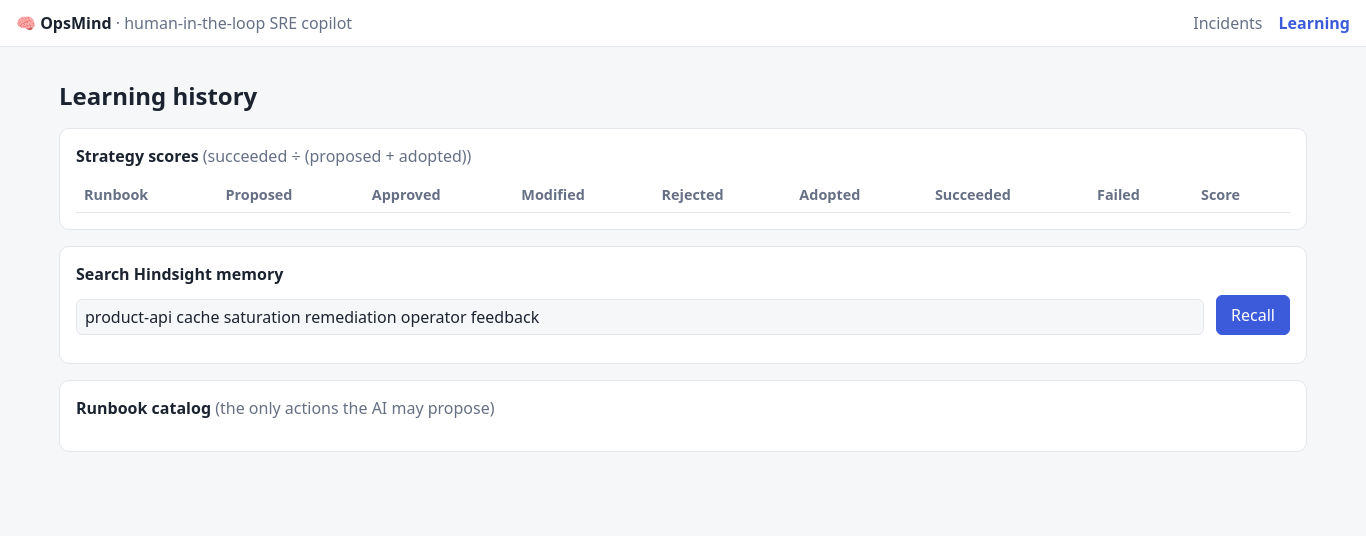
Test: learning page › searches Hindsight memory
The image size is (1366, 536).
Click the button "Recall" at (1253, 315), box x1=1216 y1=295 x2=1290 y2=335
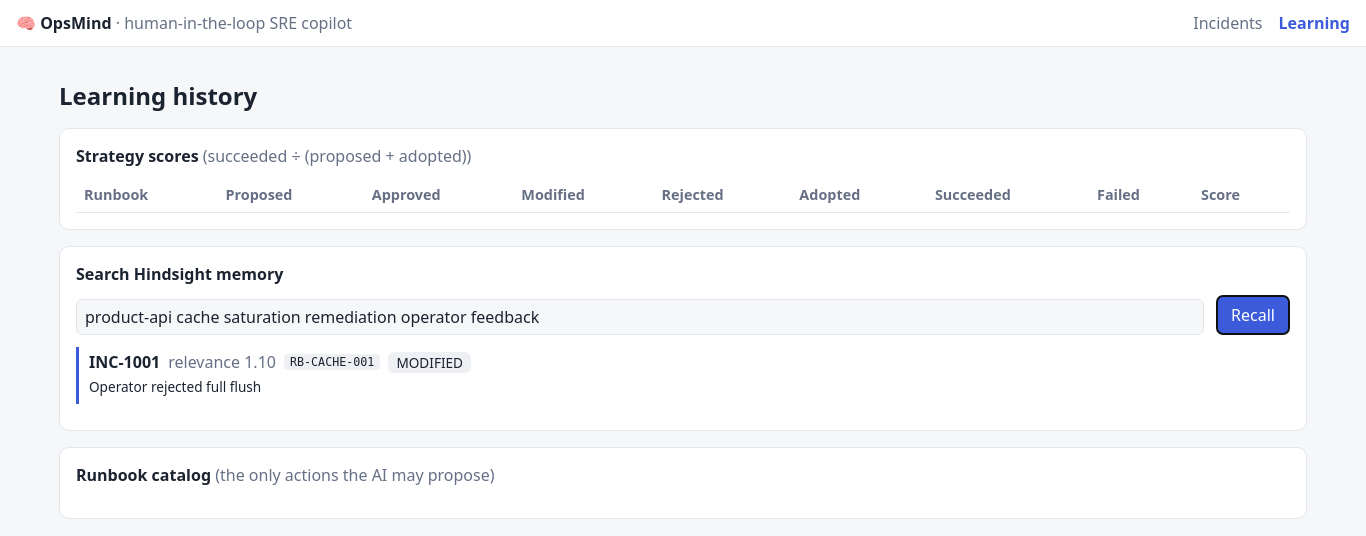
Expected: the text "Operator rejected full flush" is shown, x1=89 y1=377 x2=261 y2=396
